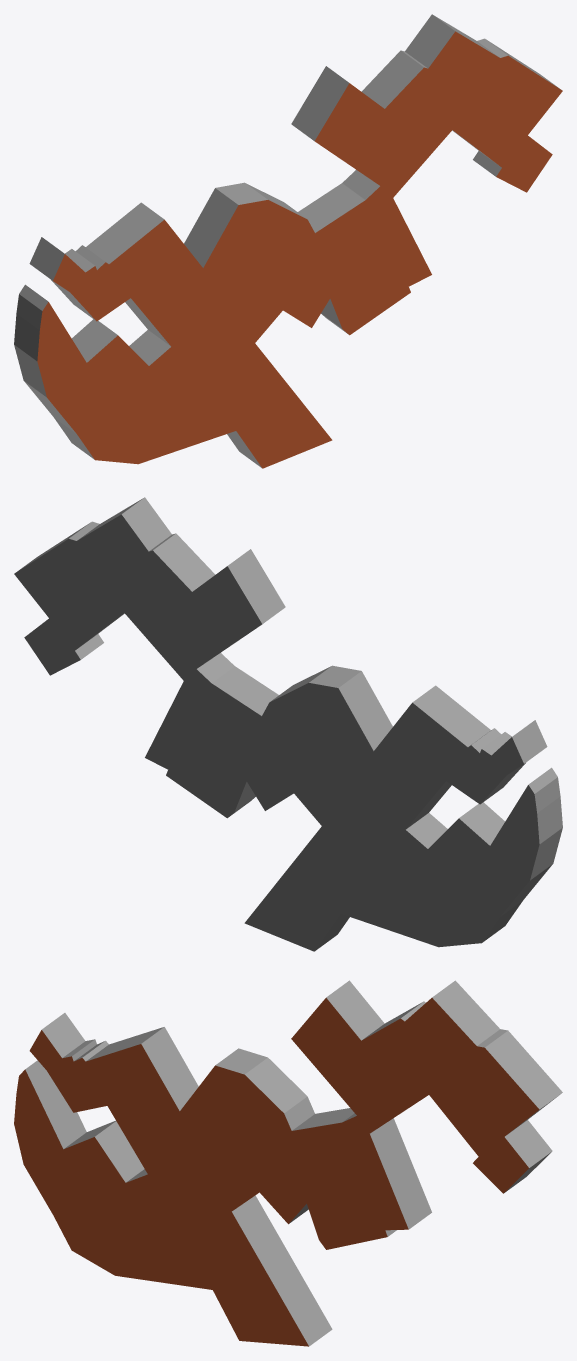
The model's file is construction_2716_assumed_A_Casa_h6m.obj.
3 views of the same model, one above another, from view 1: azimuth 30°, elevation 25°; view 2: azimuth 150°, elevation 25°; view 3: azimuth 330°, elevation 25° (orthographic).
Visible parts, largest first — view 1: construction_2716_assumed_A_Casa; view 2: construction_2716_assumed_A_Casa; view 3: construction_2716_assumed_A_Casa.
Boxes of the visible parts, box(x1,y1,x2,y2) form: construction_2716_assumed_A_Casa: box(14, 14, 562, 468); construction_2716_assumed_A_Casa: box(14, 497, 562, 951); construction_2716_assumed_A_Casa: box(14, 980, 562, 1346).
Bounding box in the file's own units: 77.75 × 55.19 × 6.
